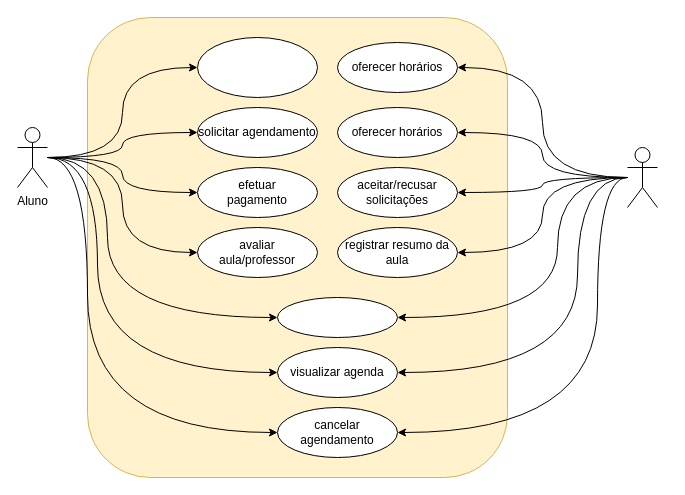
This 685x495 diagram has some shape labels left out. The centre of each missing label's shape, as x and y in pixels:
buscar professores e matérias: the point at 257,67
gerenciar perfil: the point at 337,317
Professor: the point at 642,177
